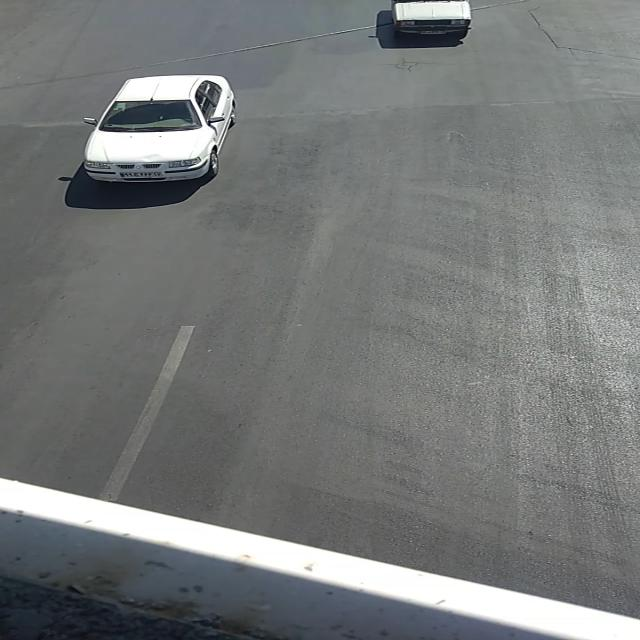car: (84, 76, 236, 182), (386, 0, 470, 36)
